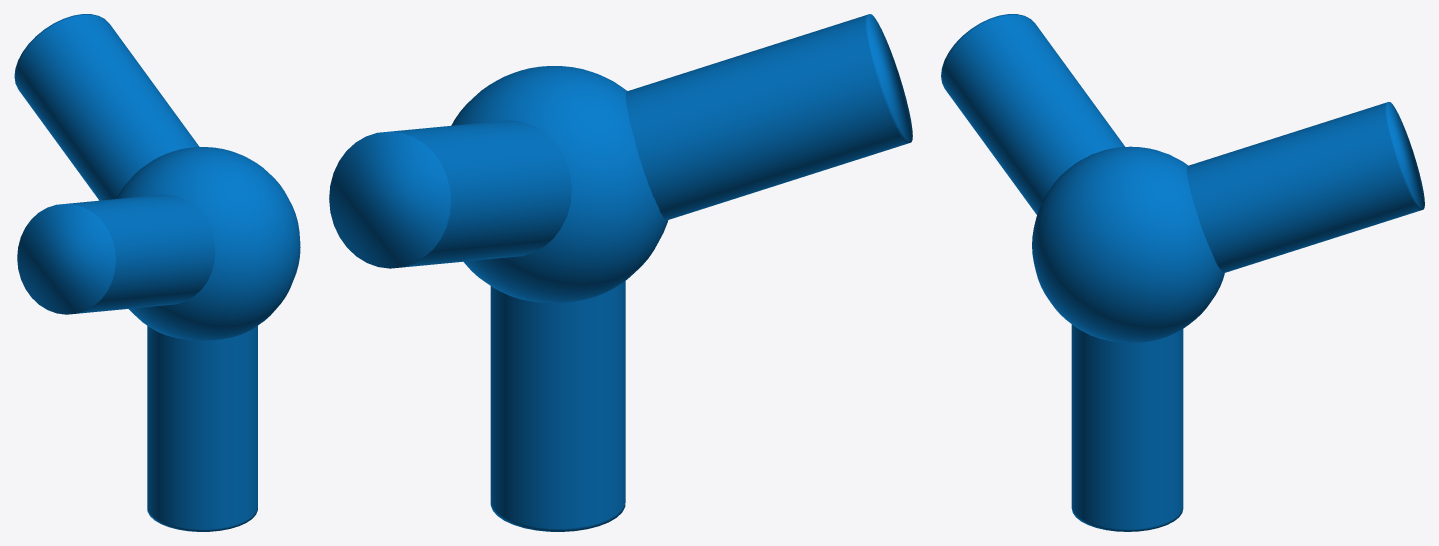
File: Azote_opti.dae
The picture shows the model from 3 angles, left to right: view 1: azimuth 30°, elevation 25°; view 2: azimuth 150°, elevation 25°; view 3: azimuth 270°, elevation 25°; orthographic projection. The views are drawn at different scales.
Parts seen in each view (by area): view 1: Sphere_001; view 2: Sphere_001; view 3: Sphere_001.
Part boxes in pixels (<box>): Sphere_001: <box>14,14,300,531</box>; Sphere_001: <box>329,14,912,531</box>; Sphere_001: <box>941,14,1424,531</box>.
Bounding box in the file's own units: 3.76 × 4.9 × 4.48.
